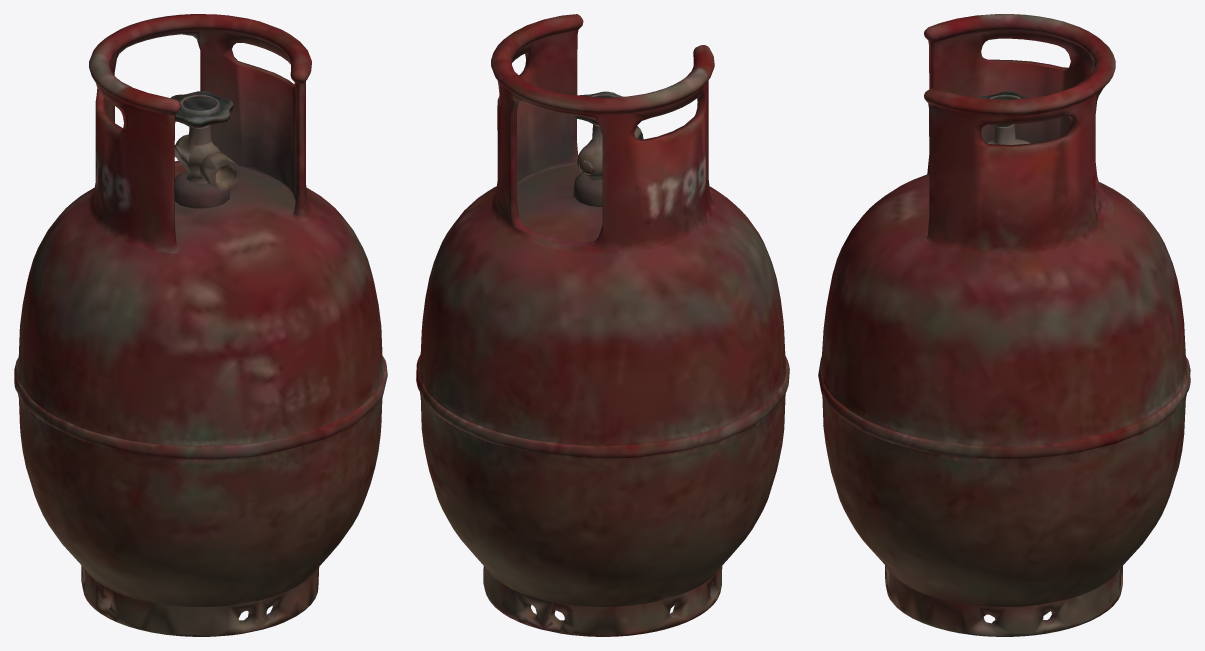
The model's file is small_lpg_tank_lod1.glb.
3 views of the same model, side by side, from view 1: azimuth 30°, elevation 25°; view 2: azimuth 150°, elevation 25°; view 3: azimuth 270°, elevation 25° (orthographic).
Visible parts, largest first — view 1: small_lpg_tank; view 2: small_lpg_tank; view 3: small_lpg_tank.
Part boxes in pixels (x1,y1,x2,y2): small_lpg_tank: (14, 14, 387, 636); small_lpg_tank: (416, 14, 789, 636); small_lpg_tank: (818, 14, 1190, 636).
Bounding box in the file's own units: 0.4099 × 0.642 × 0.4092.
1 material, 1 textured.
